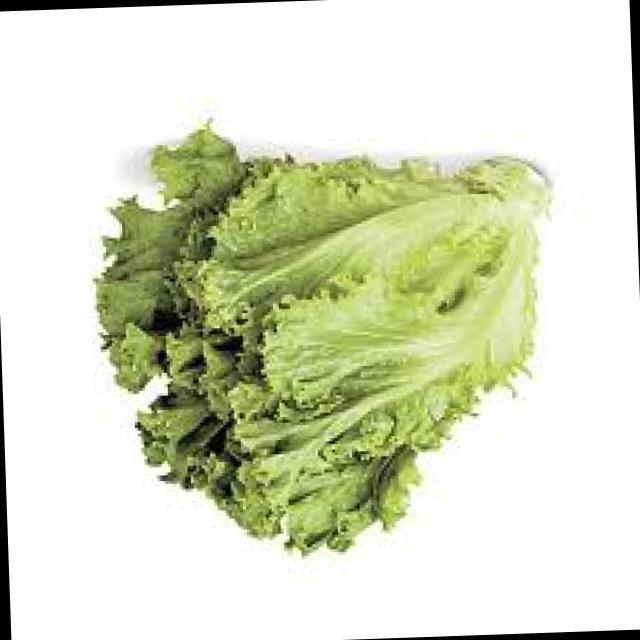Lettuce: (63, 81, 609, 594)
